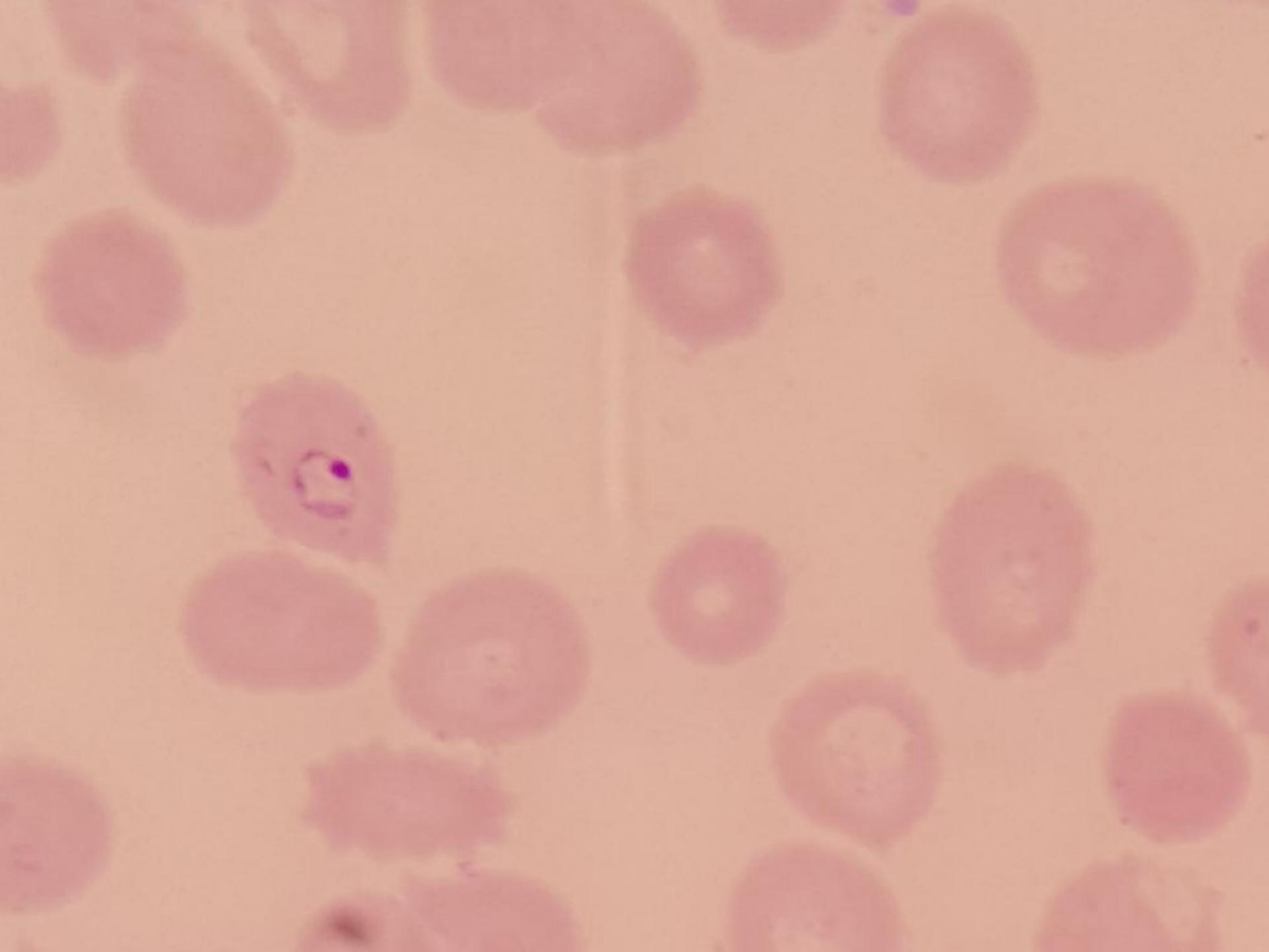Infected: (235, 375, 398, 571)
Uninfected: (1000, 170, 1196, 350), (930, 466, 1093, 679), (393, 570, 588, 741), (121, 43, 295, 230), (780, 663, 943, 845), (876, 5, 1042, 182), (183, 550, 381, 691), (517, 5, 696, 151), (626, 184, 785, 343), (304, 744, 511, 865), (240, 0, 416, 131), (38, 212, 192, 359), (1102, 689, 1251, 840), (425, 0, 603, 114), (646, 524, 781, 662), (731, 847, 908, 952)
